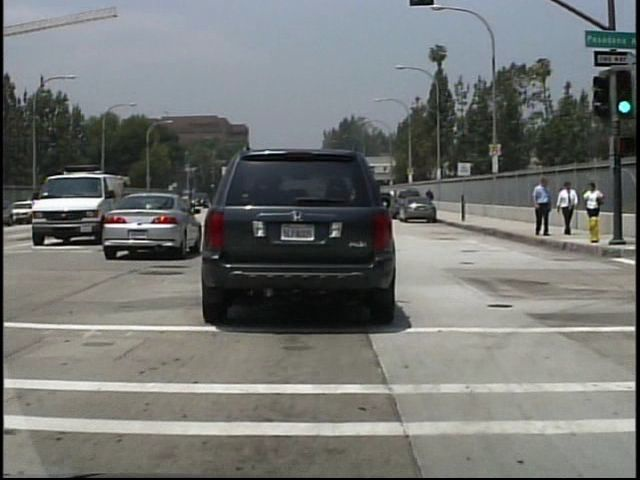person: (531, 176, 553, 238), (556, 180, 578, 235), (581, 179, 603, 217), (425, 187, 435, 211)
